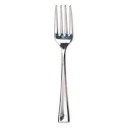fork: (44, 3, 82, 125)
